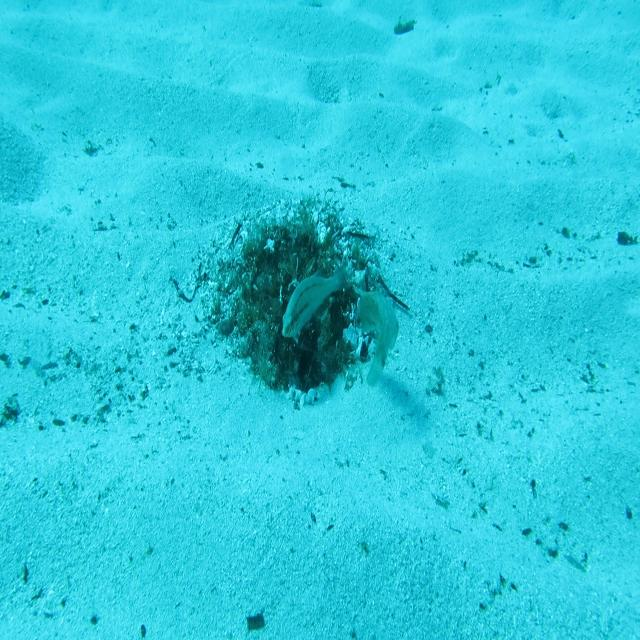DAN_CIRC: (352, 276, 402, 393)
core_nest: (272, 234, 318, 278)
female: (280, 258, 351, 342)
nest: (190, 166, 412, 420)
vegetation: (391, 16, 418, 36), (245, 615, 268, 635), (616, 229, 638, 246)
